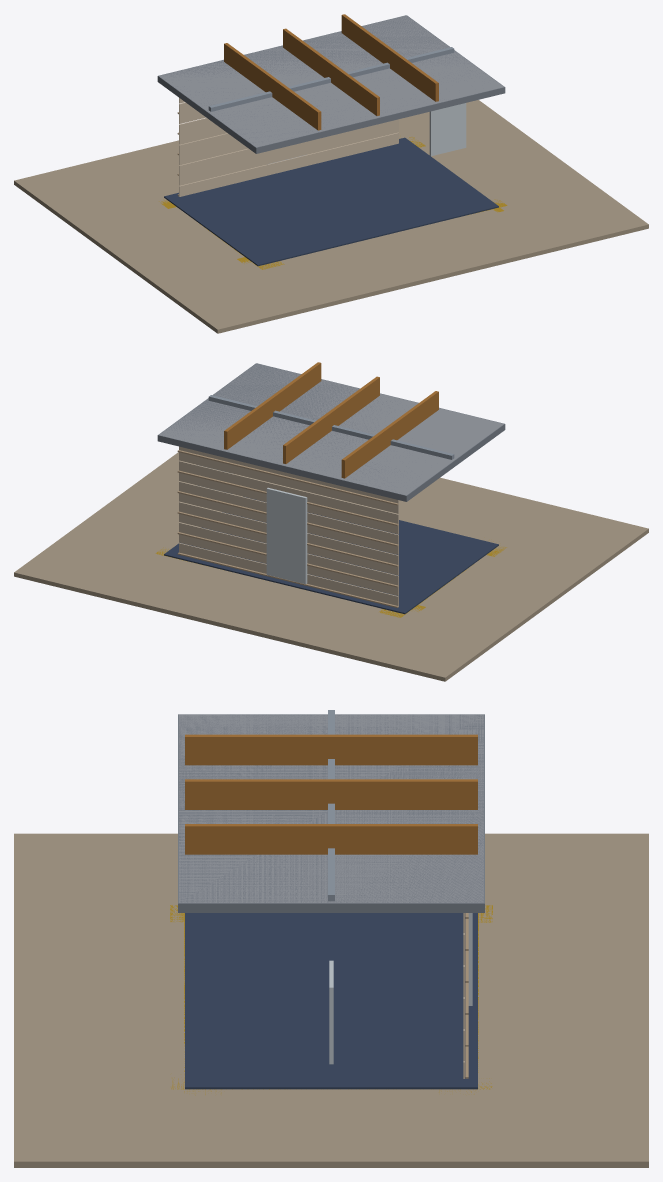
The model's file is stage_09_roof_structure.glb.
3 views of the same model, one above another, from view 1: azimuth 30°, elevation 25°; view 2: azimuth 150°, elevation 25°; view 3: azimuth 270°, elevation 25° (orthographic). The views are drawn at different scales.
Parts seen in each view (by area): view 1: world; view 2: world; view 3: world.
Boxes of the visible parts, left/top/right/bottom form: world: left=14, top=14, right=648, bottom=333; world: left=14, top=362, right=648, bottom=681; world: left=14, top=710, right=648, bottom=1167.
Bounding box in the file's own units: 11 × 4.2 × 9.
